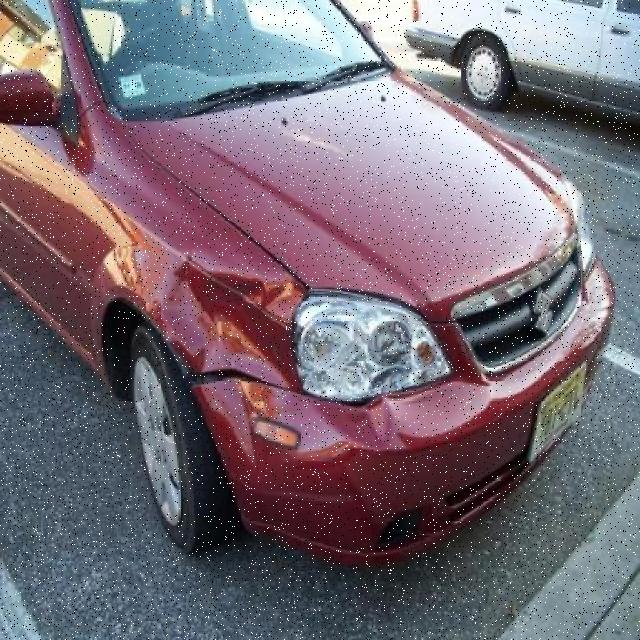damage: (159, 249, 391, 448), (384, 377, 488, 442)
